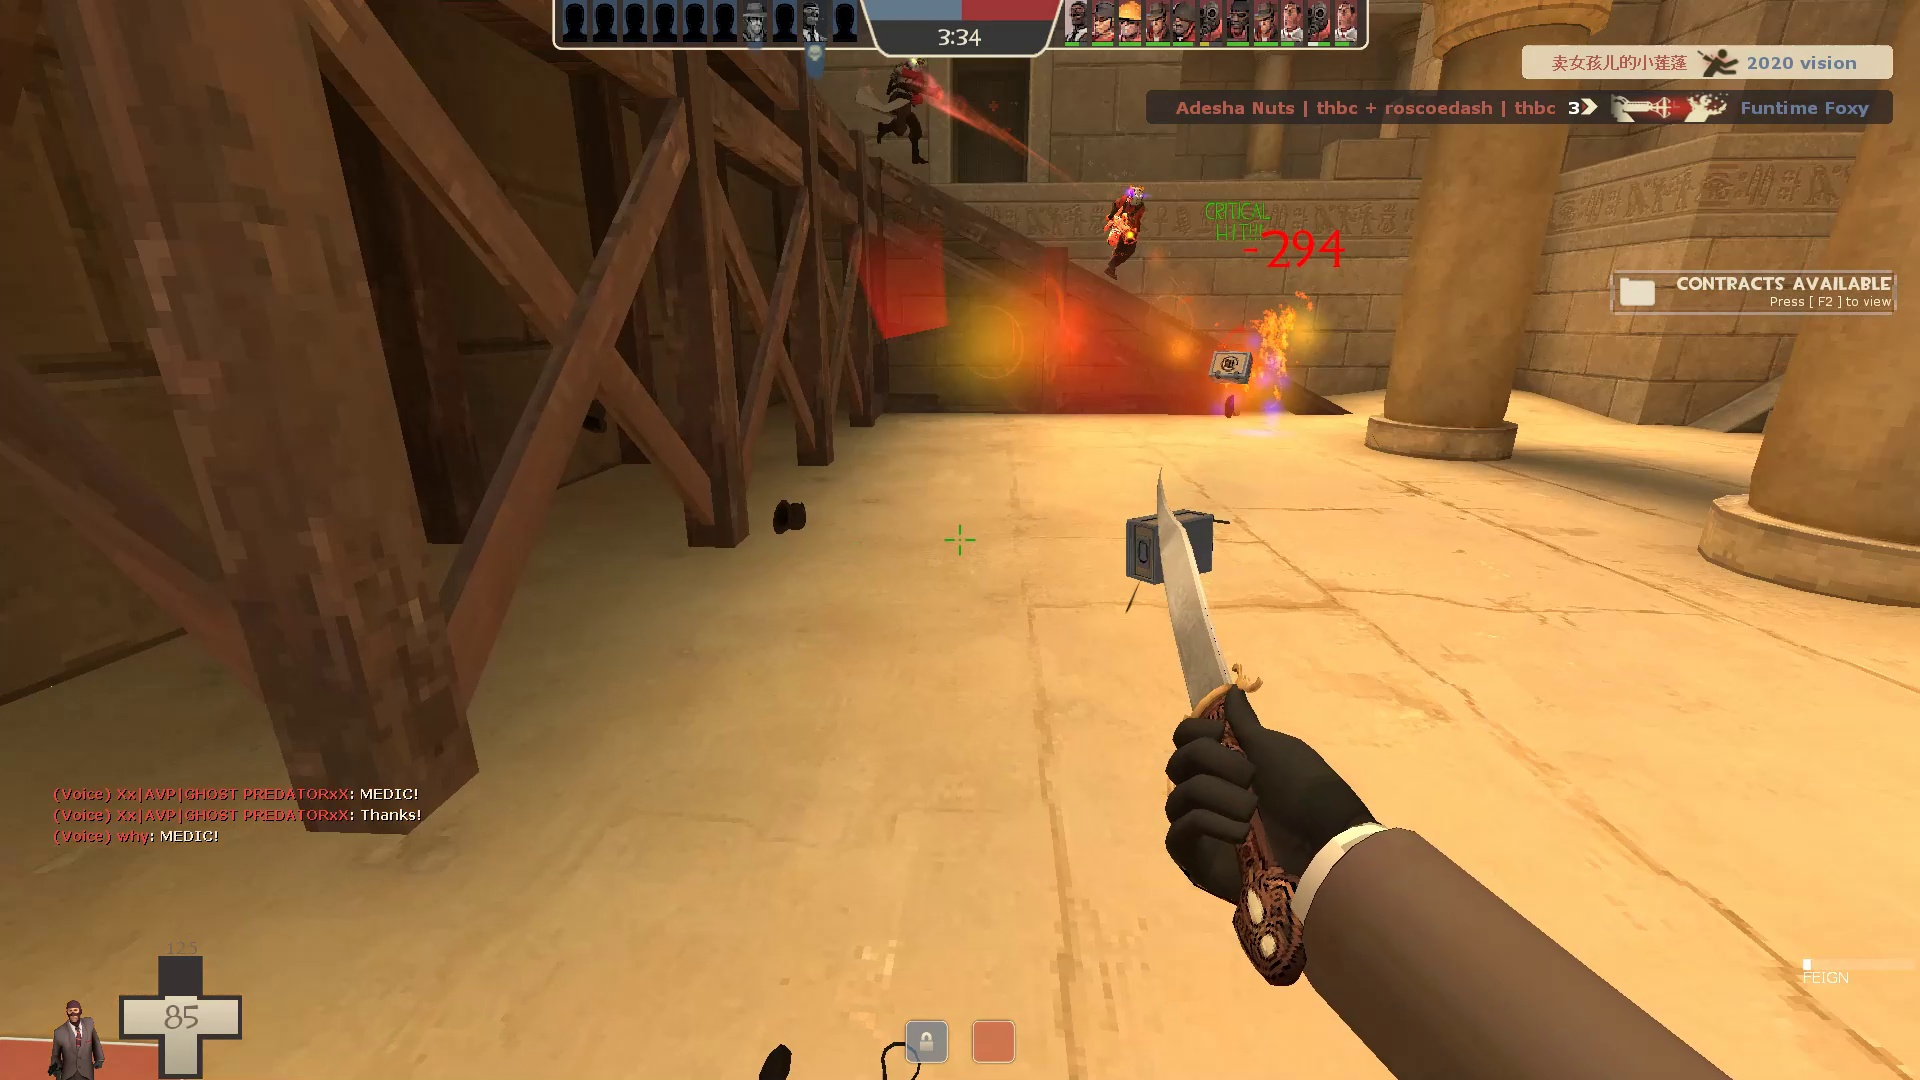red_medic: (855, 36, 945, 175)
red_pyro: (1095, 175, 1158, 291)
